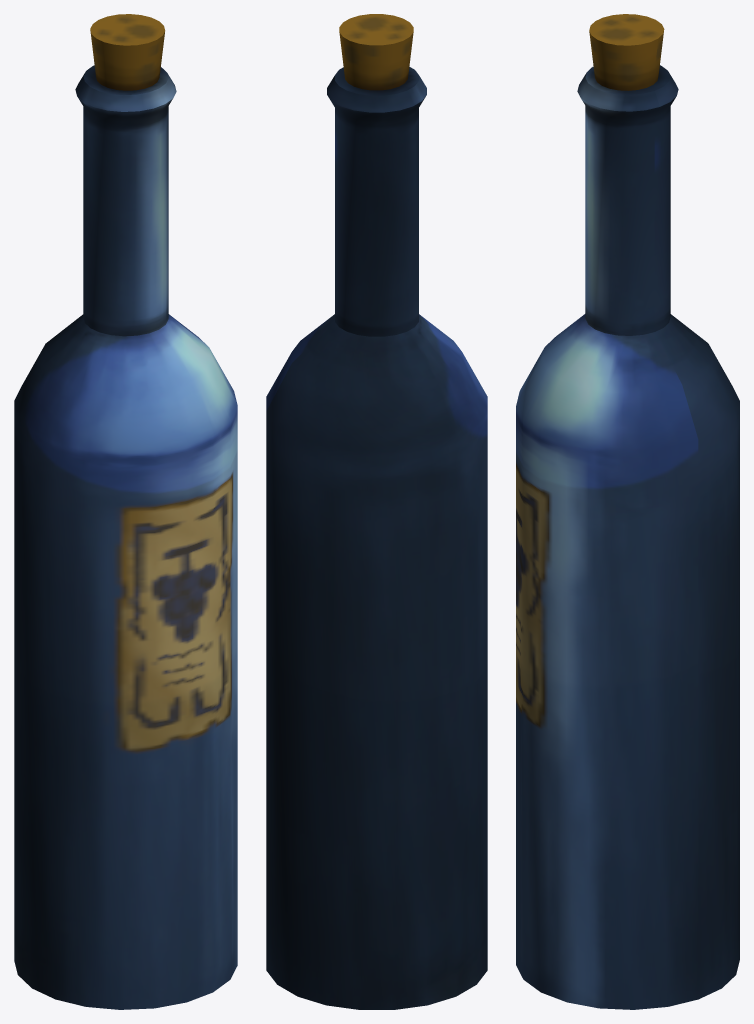
Rendered from bottle.glb.
3 views of the same model, side by side, from view 1: azimuth 30°, elevation 25°; view 2: azimuth 150°, elevation 25°; view 3: azimuth 270°, elevation 25° (orthographic).
Parts seen in each view (by area): view 1: Bottle; view 2: Bottle; view 3: Bottle.
Boxes of the visible parts, x1,y1,x2,y2 form: Bottle: (14,14,237,1009); Bottle: (266,14,487,1009); Bottle: (516,14,739,1009).
Bounding box in the file's own units: 10.08 × 46.41 × 10.08.
Materials: 1 (1 with a texture image).
